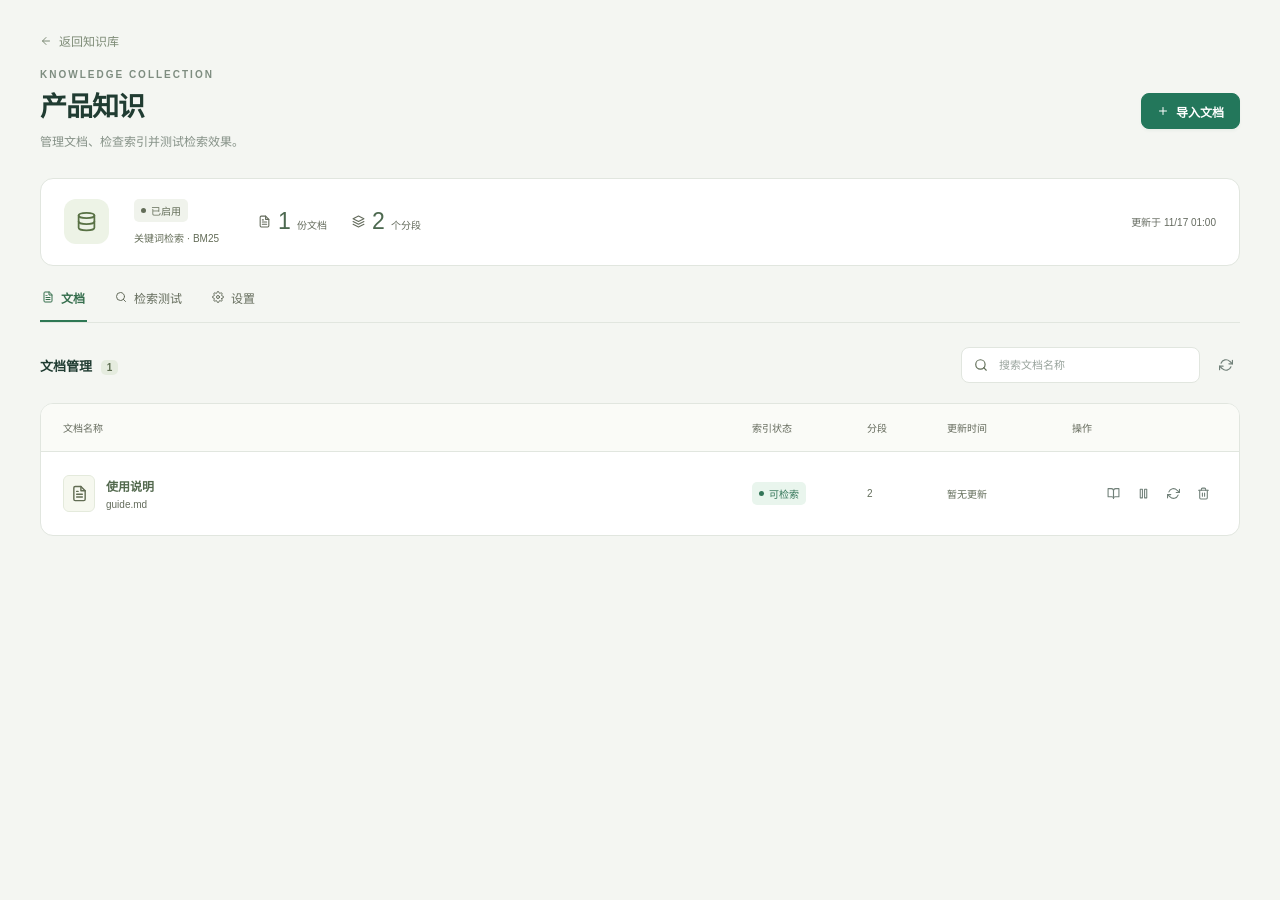
Test: BM25测试显示原始得分并可查看命中分段引用
Check: the button "使用说明" is shown, box x1=106 y1=477 x2=154 y2=494
Click the tab "检索测试" at (148, 305), box x1=113 y1=289 x2=184 y2=322
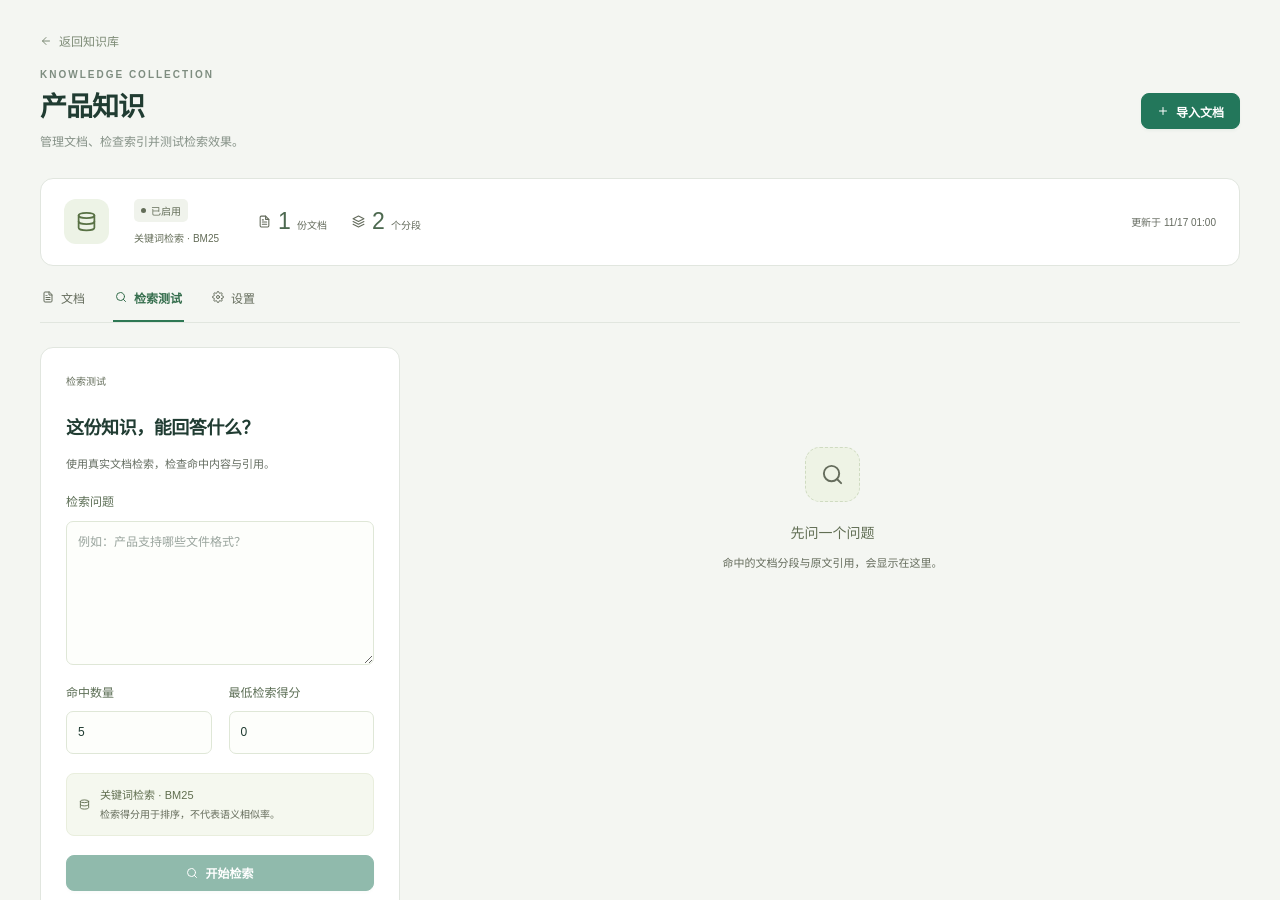
Type "文件格式" into the text box labelled "检索问题" at (220, 593), box x1=66 y1=521 x2=374 y2=665
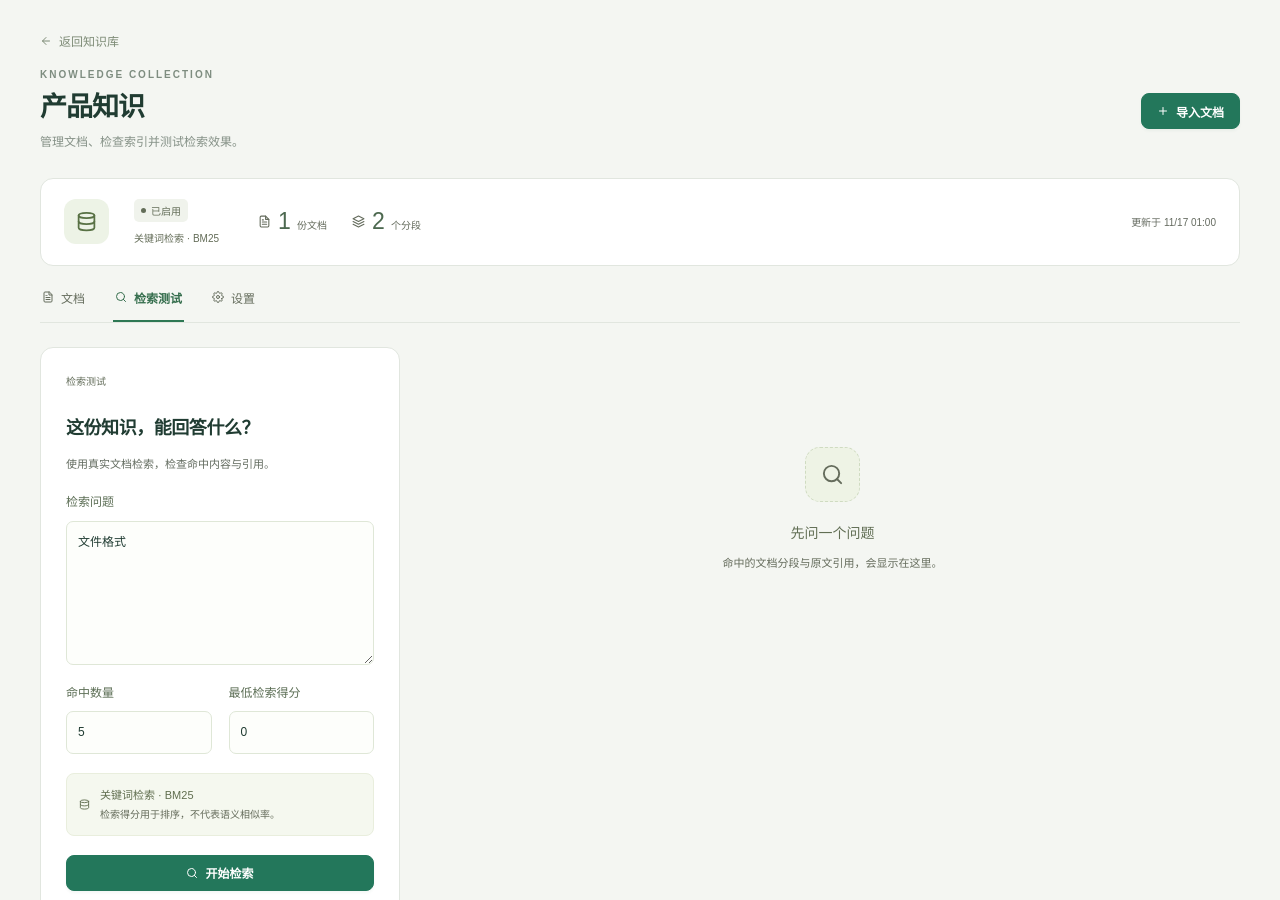
Replace the text in the number field labelled "最低检索得分" with "2.5" at (301, 732), box x1=228 y1=711 x2=374 y2=754
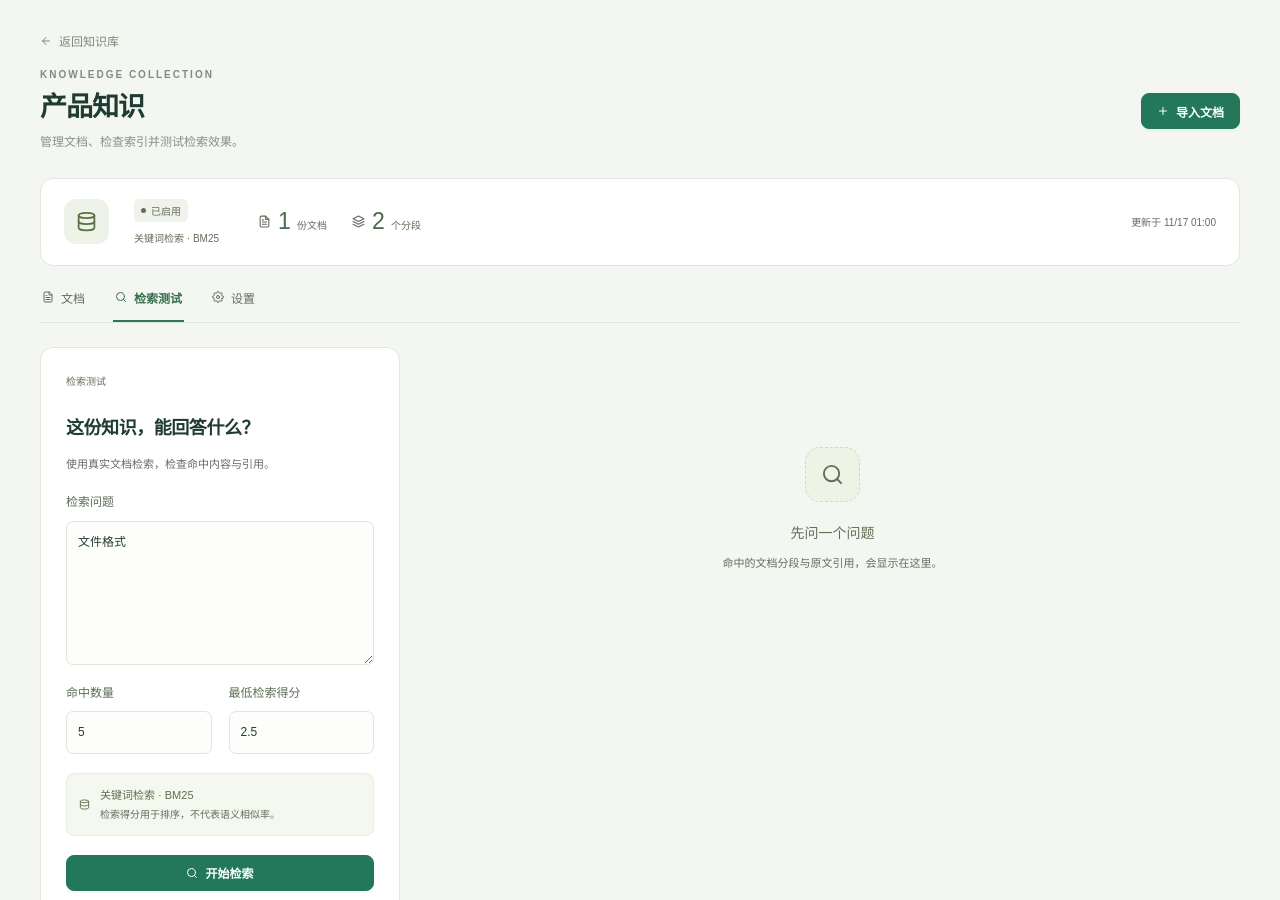
Click the button "开始检索" at (220, 873), box x1=66 y1=855 x2=374 y2=891
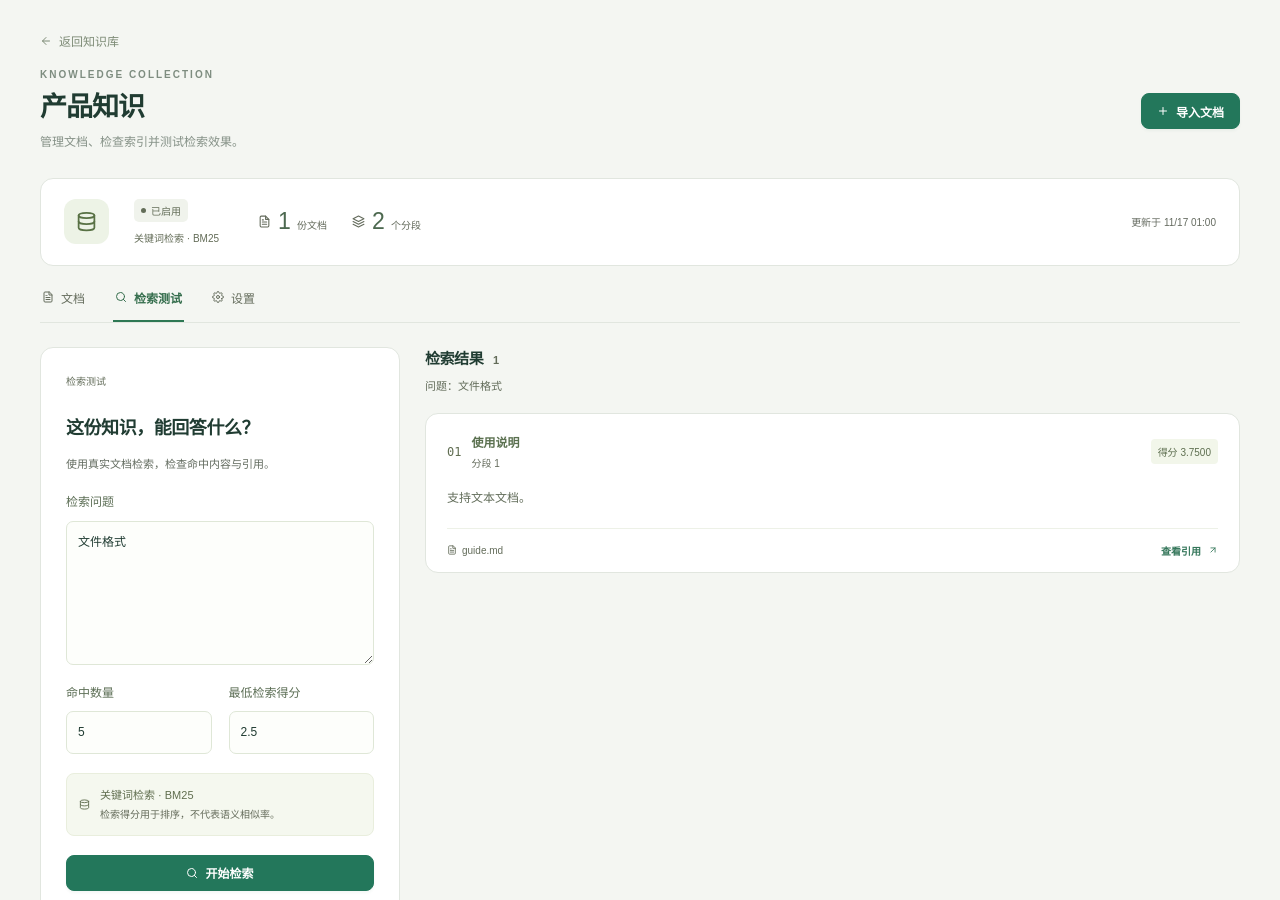
Check: the text "得分 3.7500" is shown, box x1=1151 y1=440 x2=1218 y2=464
Click the button "查看引用" at (1190, 550), box x1=1161 y1=537 x2=1218 y2=564
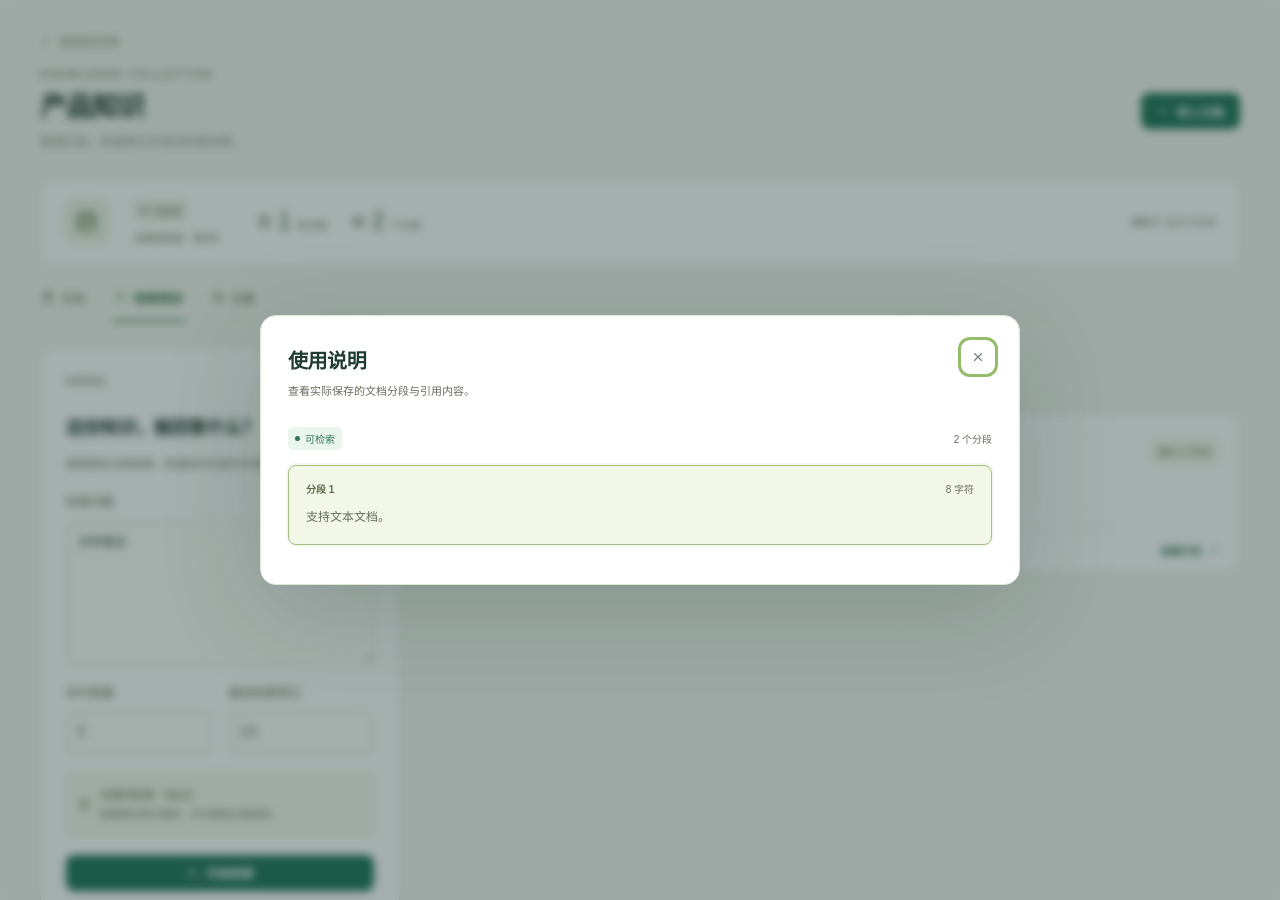
Check: the dialog "使用说明" shows "支持文本文档。", box x1=306 y1=510 x2=390 y2=524
